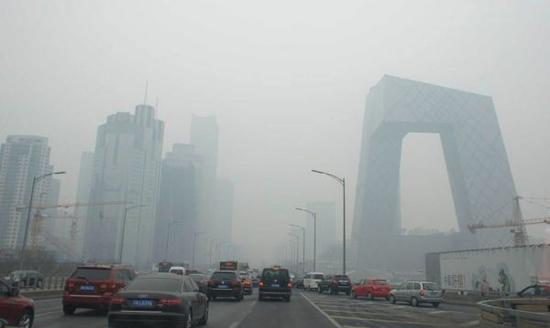bus: (219, 260, 251, 286)
car: (107, 270, 211, 328), (60, 262, 141, 315), (1, 276, 37, 328), (388, 279, 443, 306), (256, 264, 292, 301), (205, 268, 245, 301), (506, 278, 549, 308), (350, 276, 390, 300), (2, 269, 46, 289), (316, 272, 352, 295), (232, 270, 253, 295), (167, 265, 187, 291), (303, 270, 325, 291), (186, 272, 208, 293)
